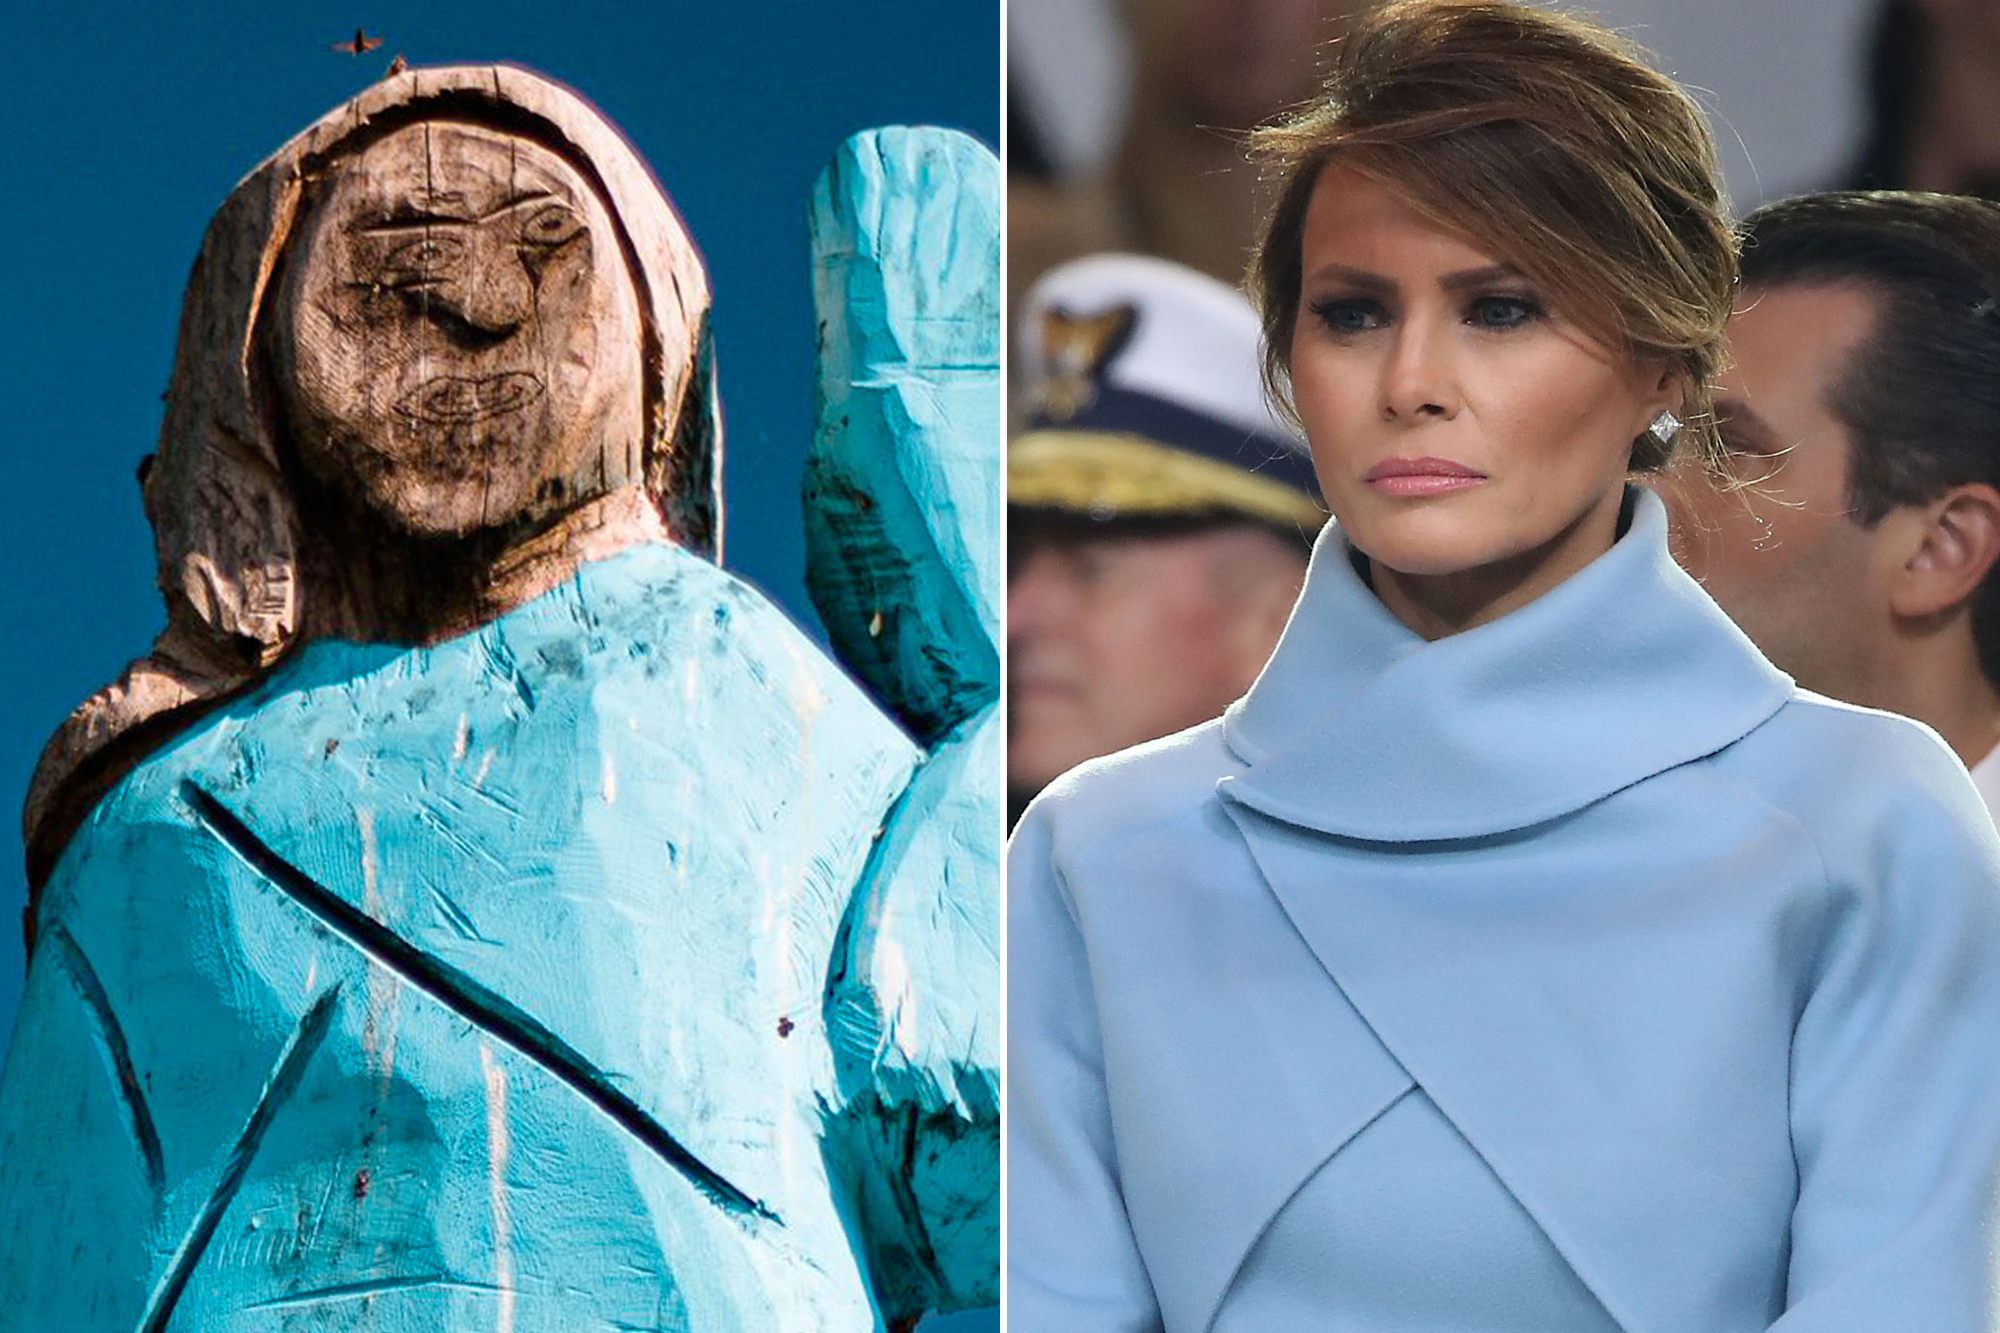person: (1015, 21, 1998, 1333)
person-like: (18, 53, 1002, 1333)
